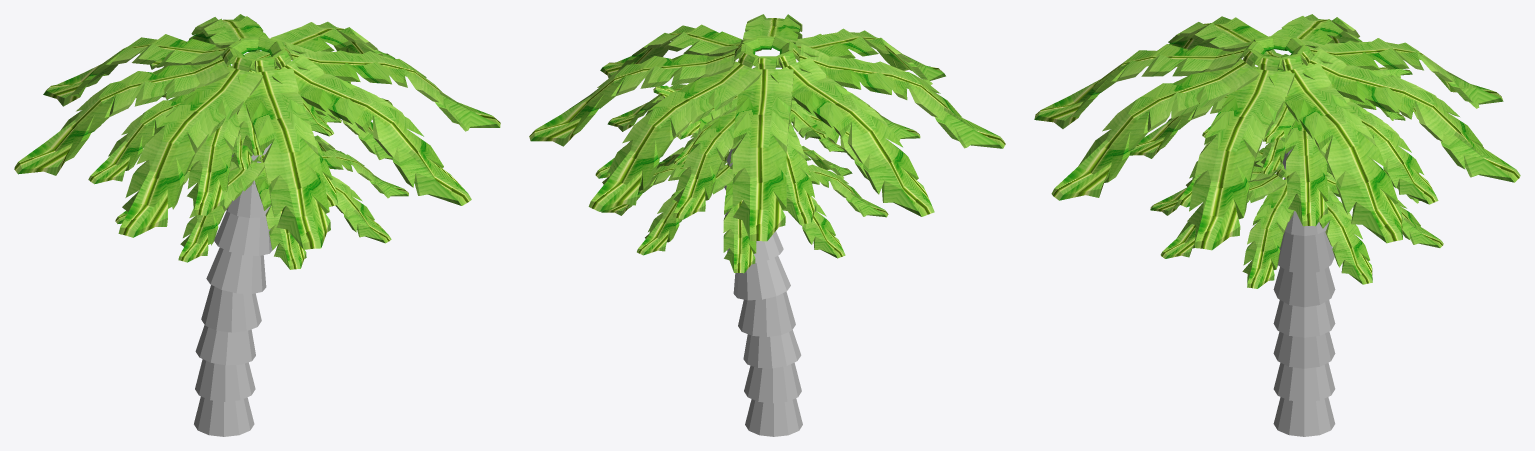
Rendered from palmtree3.fbx.
3 renders of one model, left to right at view 1: azimuth 30°, elevation 25°; view 2: azimuth 150°, elevation 25°; view 3: azimuth 270°, elevation 25°, orthographic. The views are drawn at different scales.
Parts seen in each view (by area): view 1: palmtree.002; view 2: palmtree.002; view 3: palmtree.002.
Part boxes in pixels (x1,y1,x2,y2): palmtree.002: [14, 14, 500, 436]; palmtree.002: [529, 14, 1005, 436]; palmtree.002: [1034, 14, 1520, 436].
Bounding box in the file's own units: 2384 × 2091 × 2384.
